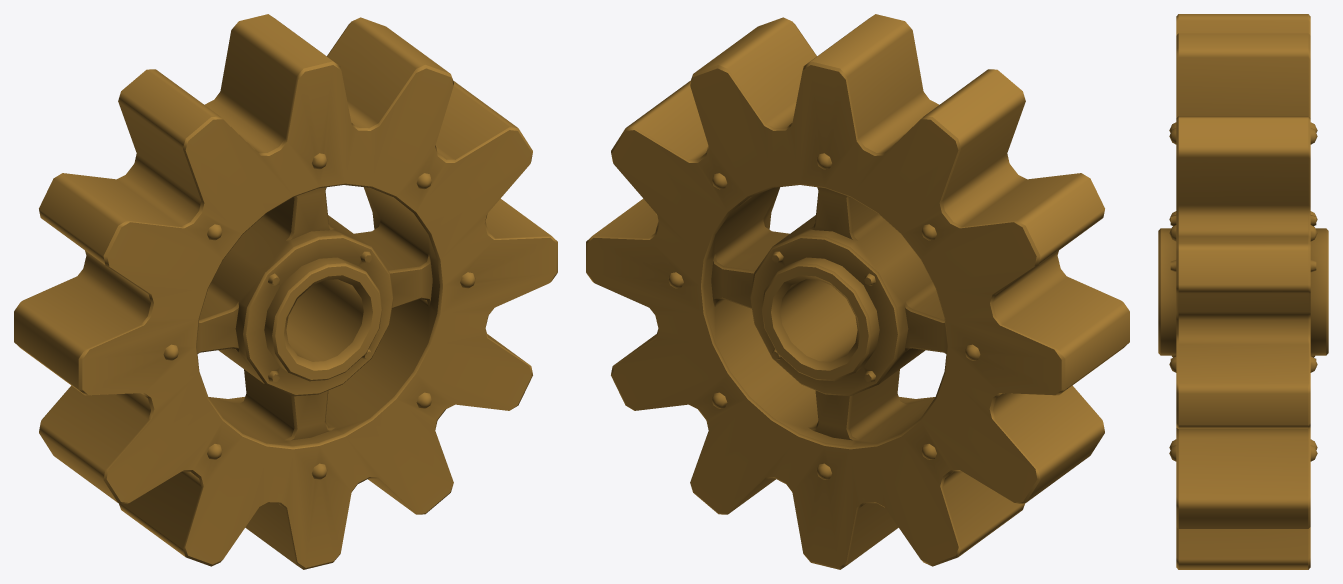
The model's file is gear_spur_12_m1.glb.
3 views of the same model, side by side, from view 1: azimuth 30°, elevation 25°; view 2: azimuth 150°, elevation 25°; view 3: azimuth 270°, elevation 25° (orthographic).
Parts seen in each view (by area): view 1: GearSpur12_M1; view 2: GearSpur12_M1; view 3: GearSpur12_M1.
Boxes of the visible parts, x1,y1,x2,y2 form: GearSpur12_M1: (14,14,557,569); GearSpur12_M1: (586,14,1129,569); GearSpur12_M1: (1158,14,1328,569).
Size of the model in its own units: 0.0495 by 0.0495 by 0.0152.
